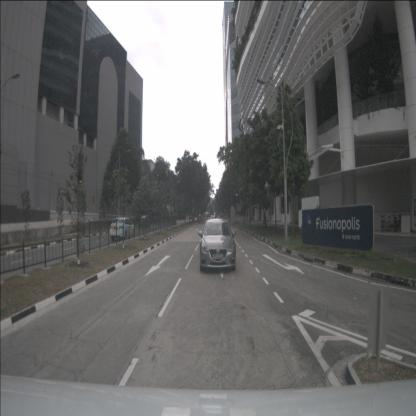vehicle-car: (200, 219, 236, 271), (110, 218, 134, 242), (138, 214, 151, 227), (212, 214, 217, 221)
